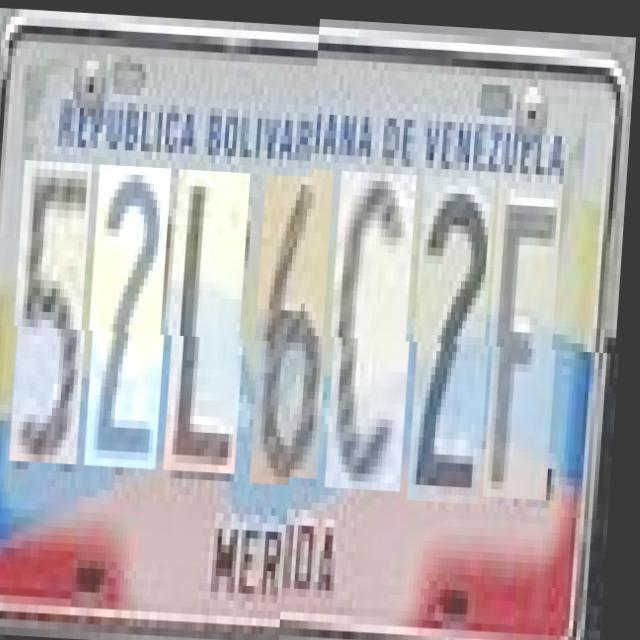2: (413, 178, 501, 506), (90, 164, 178, 466)
5: (15, 160, 99, 463)
6: (256, 171, 339, 482)
C: (330, 175, 422, 494)
F: (488, 182, 568, 501)
L: (170, 167, 256, 470)
